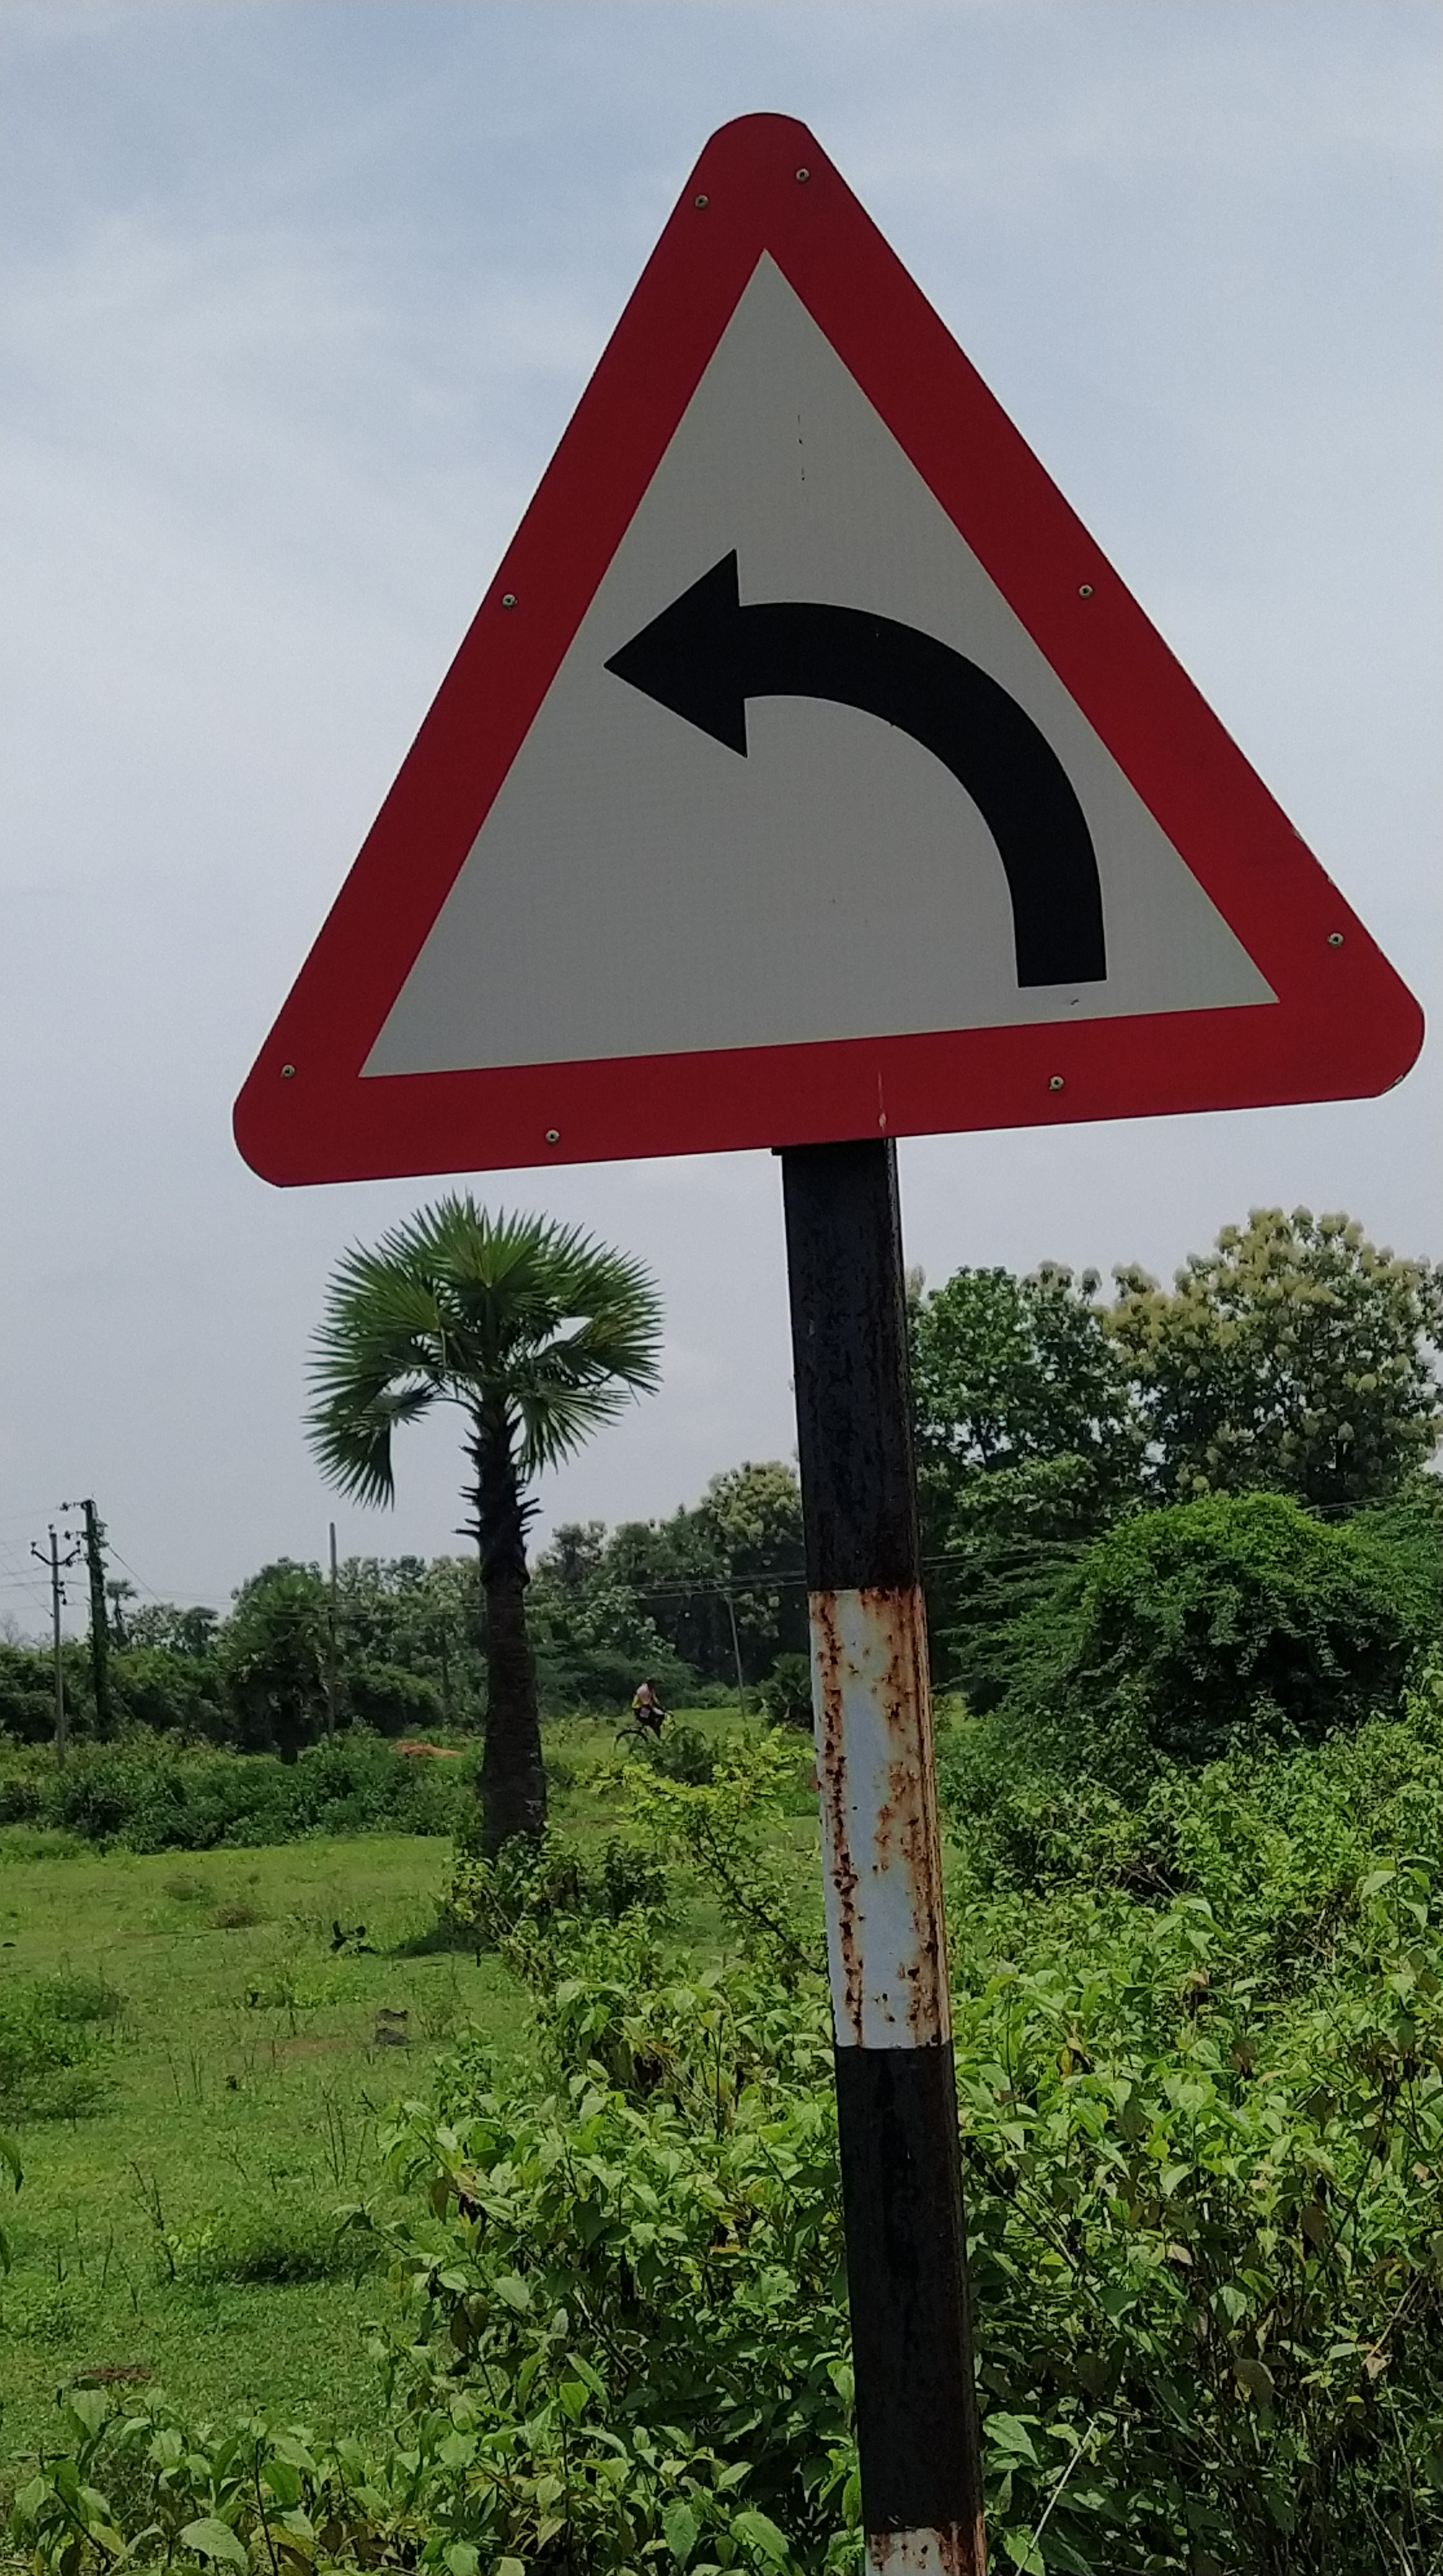Turn left: (159, 96, 1432, 1205)
